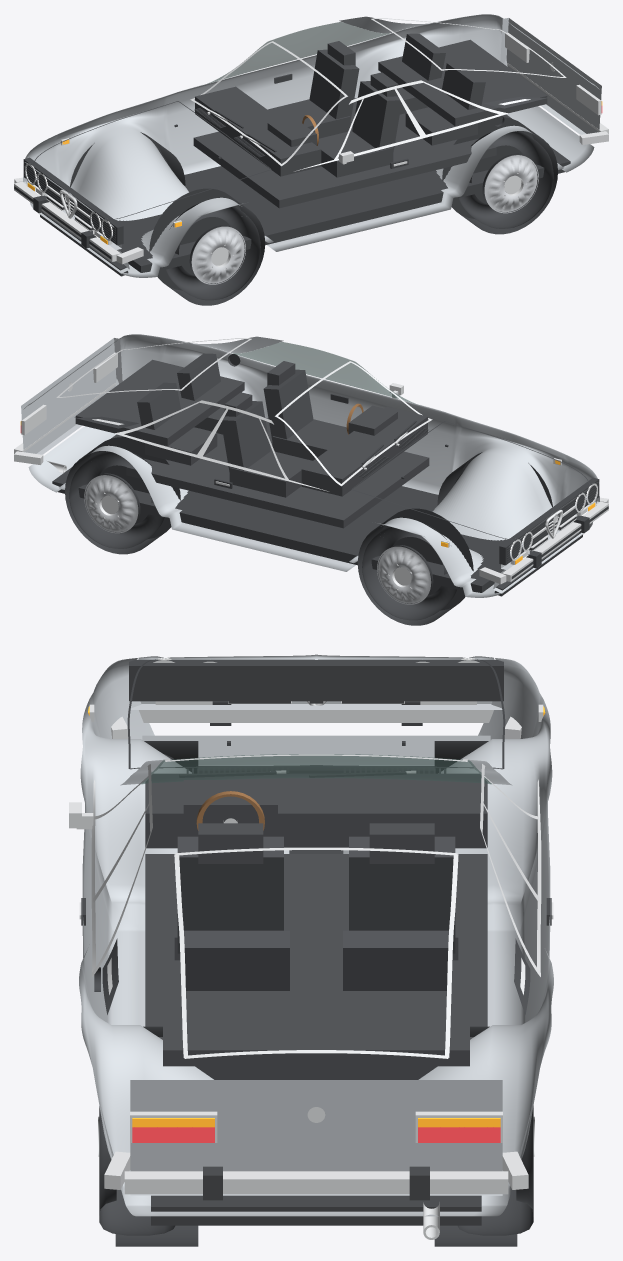
The model's file is alfa-romeo-1973-cad.glb.
3 renders of one model, top to bottom at view 1: azimuth 30°, elevation 25°; view 2: azimuth 150°, elevation 25°; view 3: azimuth 270°, elevation 25°, orthographic. The views are drawn at different scales.
Visible parts, largest first — view 1: Alfa_Romeo_Alfetta_GTV_1973; view 2: Alfa_Romeo_Alfetta_GTV_1973; view 3: Alfa_Romeo_Alfetta_GTV_1973.
Boxes of the visible parts, x1=… form: Alfa_Romeo_Alfetta_GTV_1973: x1=14, y1=14, x2=608, y2=305; Alfa_Romeo_Alfetta_GTV_1973: x1=14, y1=334, x2=608, y2=625; Alfa_Romeo_Alfetta_GTV_1973: x1=69, y1=654, x2=553, y2=1246.
Size of the model in its own units: 1.97 by 0.6362 by 0.8212.
